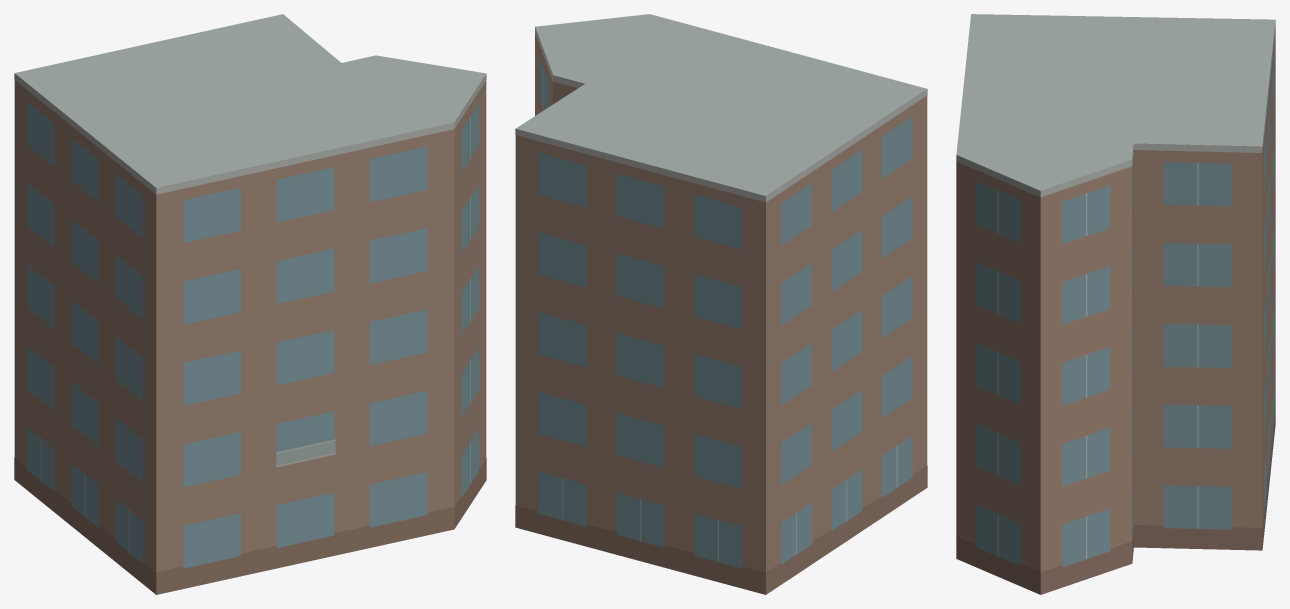
Rendered from survey-upis-32562065.glb.
3 views of the same model, side by side, from view 1: azimuth 30°, elevation 25°; view 2: azimuth 150°, elevation 25°; view 3: azimuth 270°, elevation 25° (orthographic). The views are drawn at different scales.
Visible parts, largest first — view 1: survey-upis-32562065.tmp; view 2: survey-upis-32562065.tmp; view 3: survey-upis-32562065.tmp.
Boxes of the visible parts, x1=… form: survey-upis-32562065.tmp: x1=14, y1=14, x2=486, y2=594; survey-upis-32562065.tmp: x1=515, y1=14, x2=927, y2=594; survey-upis-32562065.tmp: x1=956, y1=14, x2=1275, y2=594.
Bounding box in the file's own units: 14.29 × 15.2 × 10.9.
